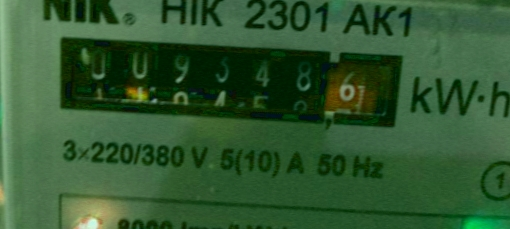0: (126, 44, 149, 81), (85, 44, 107, 80)
3: (208, 50, 232, 83)
4: (248, 52, 271, 90)
6: (334, 66, 358, 101)
8: (291, 56, 313, 91)
9: (169, 48, 189, 83)
screen: (31, 20, 421, 142)
